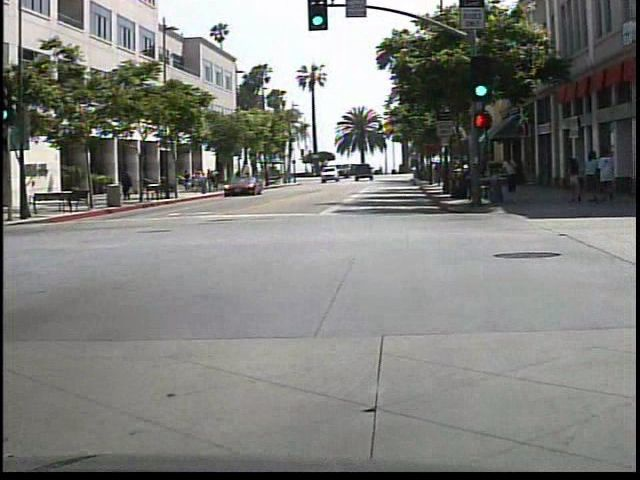person: (497, 152, 521, 197), (122, 169, 133, 202)
